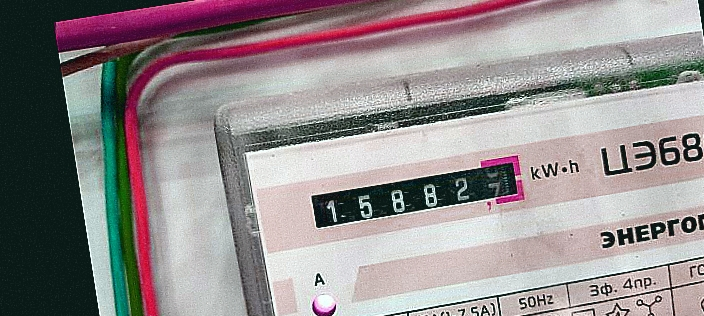1: (322, 195, 340, 225)
2: (451, 174, 472, 204)
5: (354, 190, 376, 220)
7: (485, 178, 503, 198)
8: (387, 186, 407, 216), (420, 180, 439, 210)
screen: (294, 145, 536, 243)
